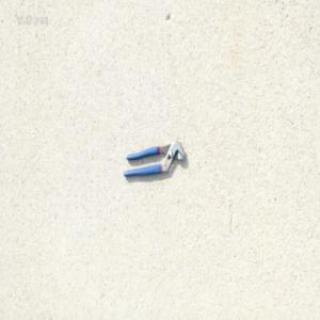Pliertrack_idkeyframe: (123, 138, 186, 178)
